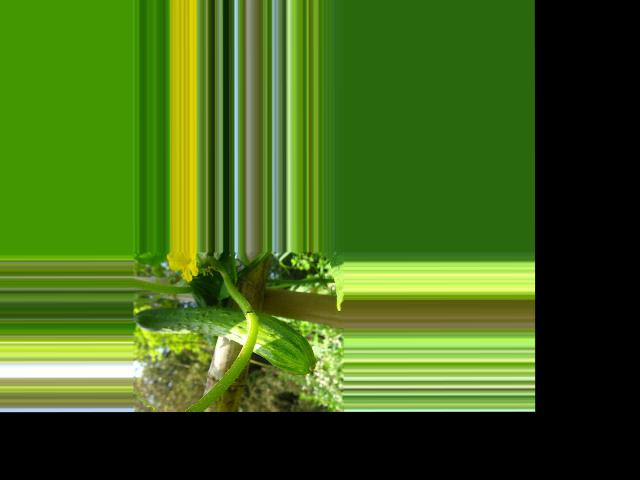cucumber: (133, 306, 315, 373)
